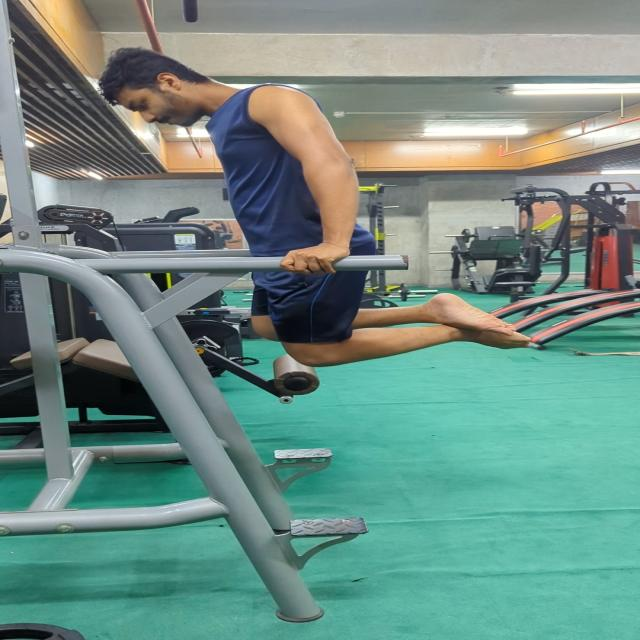Normal_Dips: (92, 40, 548, 375)
